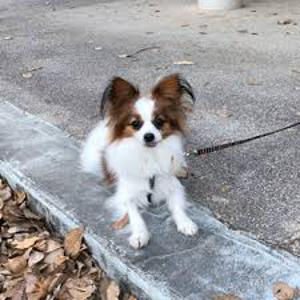yell: (81, 73, 198, 248)
